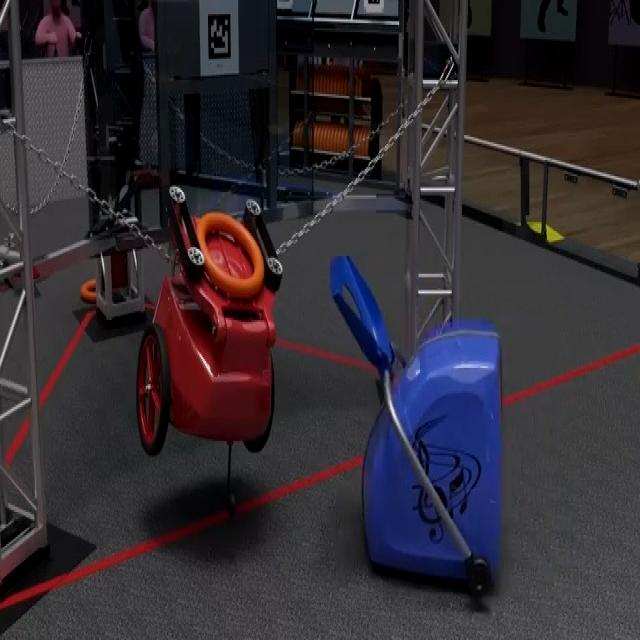notes: (200, 212, 264, 300)
